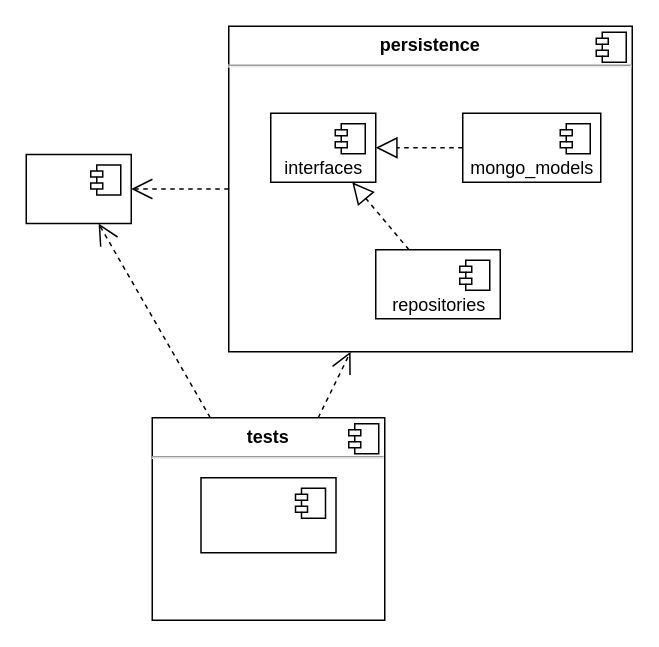
Some shapes in this 659 by 647 pixel diagram are drawn without their labels. The centre of each missing label's shape, as x and y in pixels:
entities: the point at 78,188
test_helpers: the point at 268,514
